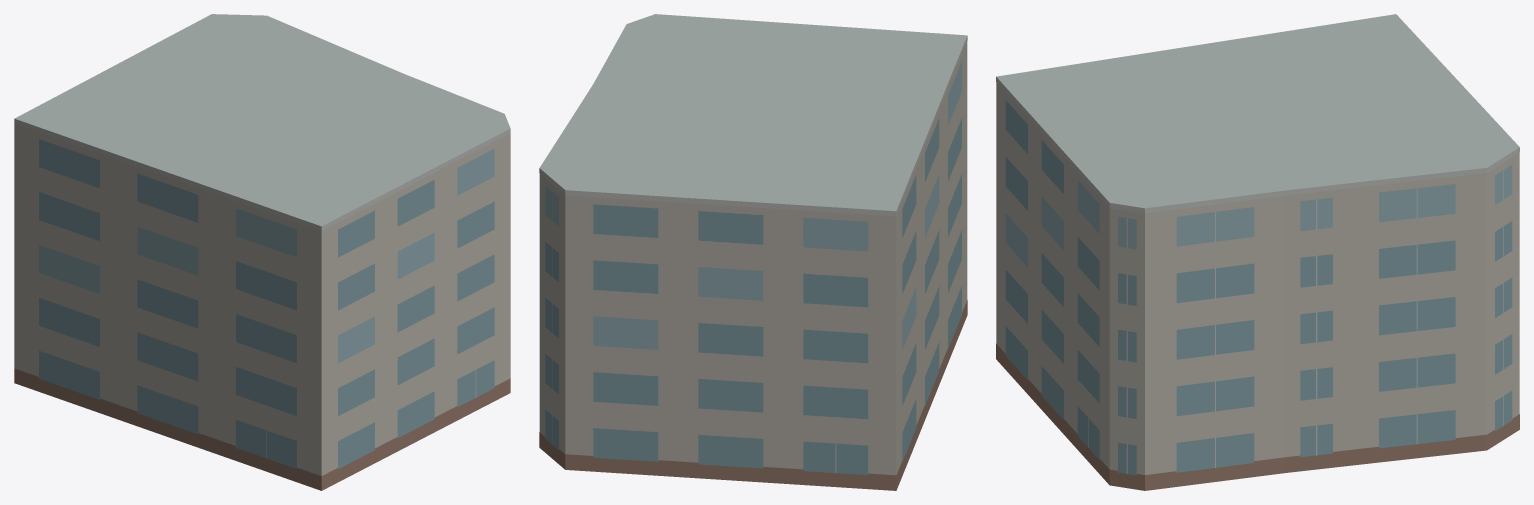
The model's file is survey-upis-32722745.glb.
The picture shows the model from 3 angles, left to right: view 1: azimuth 30°, elevation 25°; view 2: azimuth 150°, elevation 25°; view 3: azimuth 270°, elevation 25°; orthographic projection. The views are drawn at different scales.
Parts seen in each view (by area): view 1: survey-upis-32722745.tmp; view 2: survey-upis-32722745.tmp; view 3: survey-upis-32722745.tmp.
Part boxes in pixels (<box>): survey-upis-32722745.tmp: <box>14,14,510,490</box>; survey-upis-32722745.tmp: <box>539,14,967,490</box>; survey-upis-32722745.tmp: <box>996,14,1519,490</box>.
Bounding box in the file's own units: 19.62 × 13.3 × 22.35.
